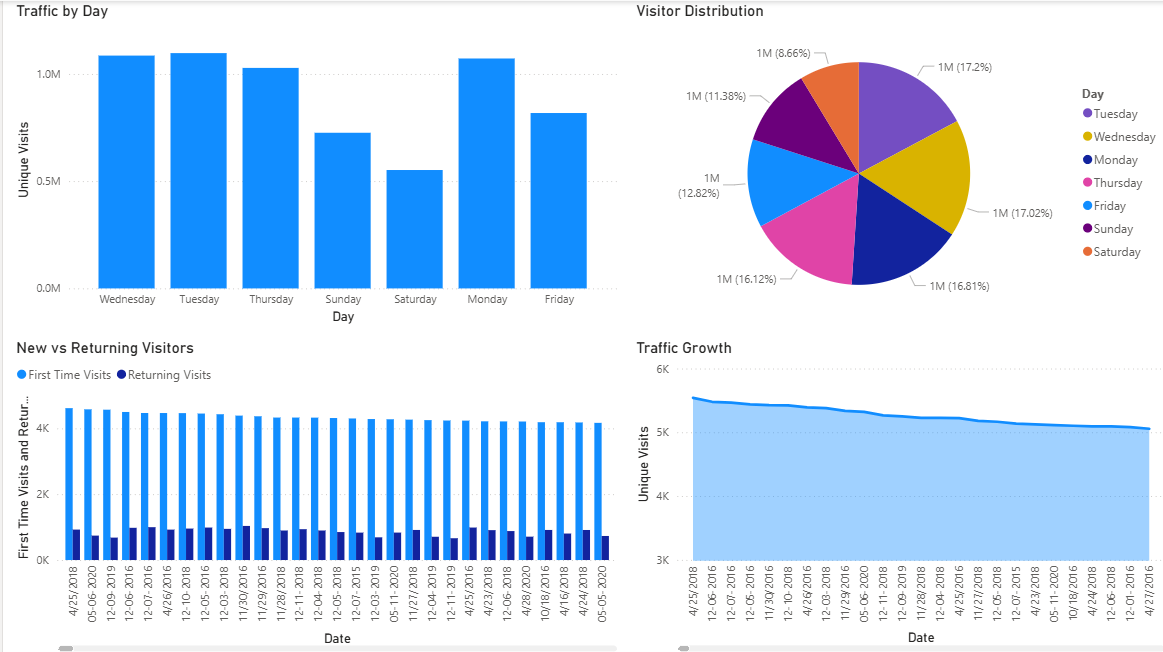

The page's visual inventory and layout, read from the dashboard file:
{"tool":"powerbi","page":{"name":"Page 2","canvas":[1280,720],"ordinal":1},"visuals":[{"type":"clusteredColumnChart","title":"Traffic by Day","fields":{"Category":["websitetraffic.Day"],"Y":["Sum(websitetraffic.Unique.Visits)"]},"box":[9.6,0,669.6,359.5],"z":0},{"type":"clusteredColumnChart","title":"New vs Returning Visitors","fields":{"Category":["websitetraffic.Date"],"Y":["Sum(websitetraffic.First.Time.Visits)","Sum(websitetraffic.Returning.Visits)"]},"box":[9.6,370.5,669.6,349.9],"z":1},{"type":"pieChart","title":"Visitor Distribution","fields":{"Category":["websitetraffic.Day"],"Y":["Sum(websitetraffic.Unique.Visits)"]},"box":[690,0,590,360],"z":2},{"type":"areaChart","title":"Traffic Growth","fields":{"Category":["websitetraffic.Date"],"Y":["Sum(websitetraffic.Unique.Visits)"]},"box":[690,370,590,350],"z":3}]}

Visuals, with their boxes in screenshot pixels (x1, y1, x2, y2), scaled from the page's 1280x720 canvas onto the 1163x652 screenshot:
"Traffic by Day" clusteredColumnChart: [x1=9, y1=0, x2=617, y2=326]
"New vs Returning Visitors" clusteredColumnChart: [x1=9, y1=336, x2=617, y2=651]
"Visitor Distribution" pieChart: [x1=627, y1=0, x2=1162, y2=326]
"Traffic Growth" areaChart: [x1=627, y1=335, x2=1162, y2=651]
